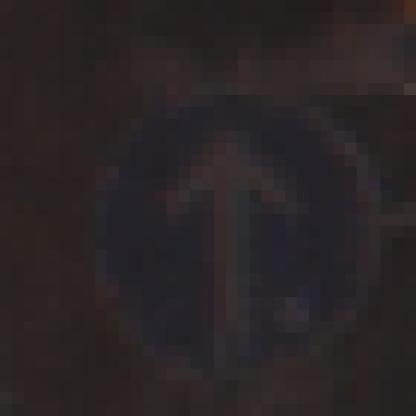AheadOnly: (72, 60, 346, 346)
